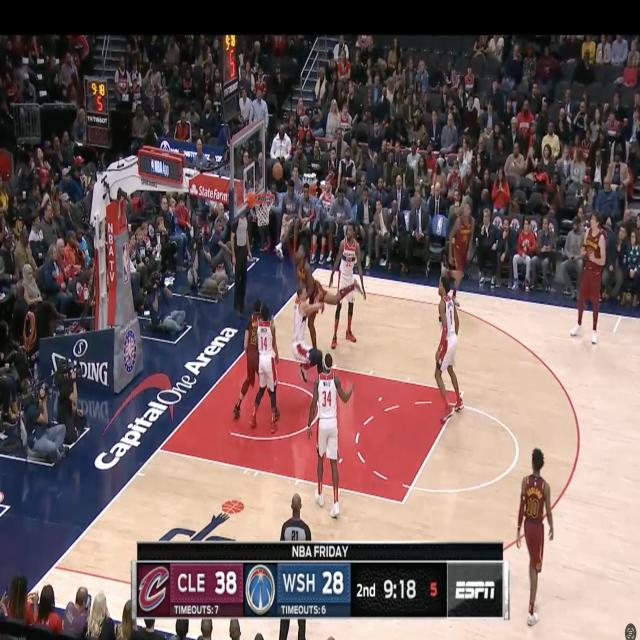foul: (288, 237, 356, 381)
no foul: (303, 350, 357, 531), (230, 297, 288, 434), (331, 224, 376, 368)
